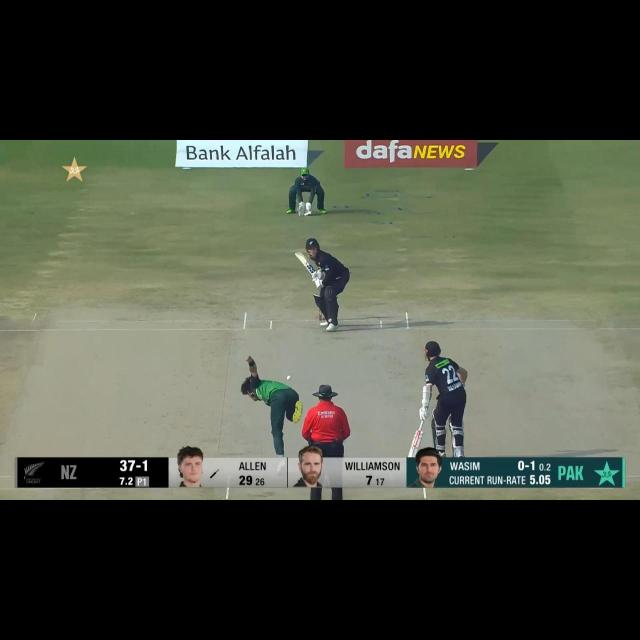bat: (293, 250, 316, 276), (407, 430, 424, 458)
toe: (291, 250, 305, 260)
